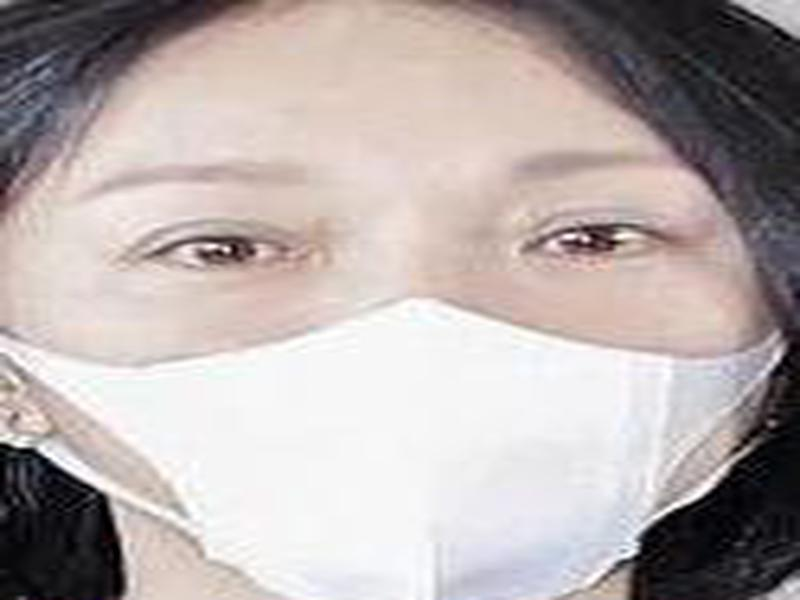with_mask: (1, 3, 769, 600)
